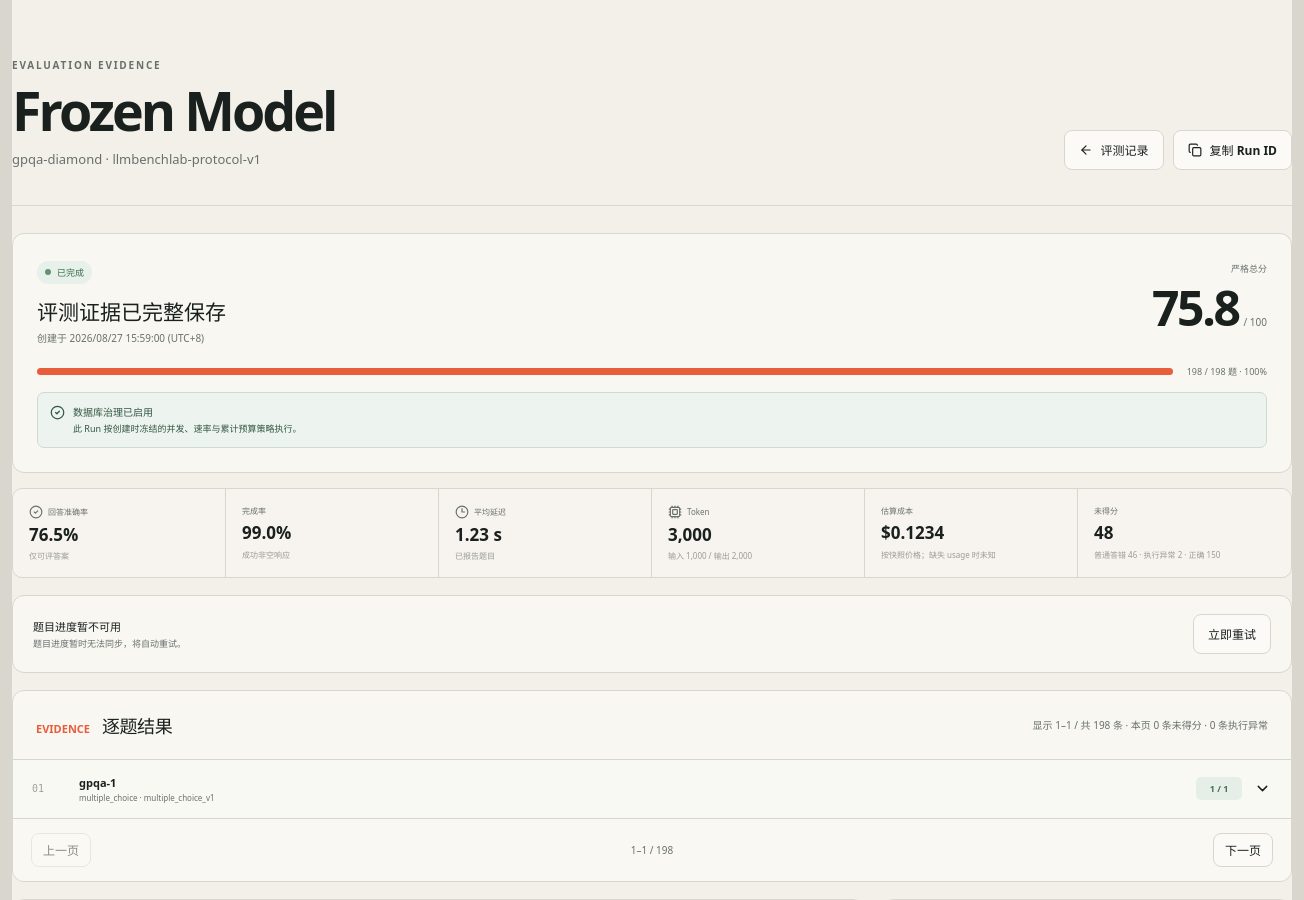
Scenario: RunDetailPage › requests offset 100 and numbers the first item on page two as 101
Expected: the text "gpqa-1" is shown, [79,774,116,790]
Click the button "下一页". click: point(1243, 850)
box: [1213,832,1273,866]
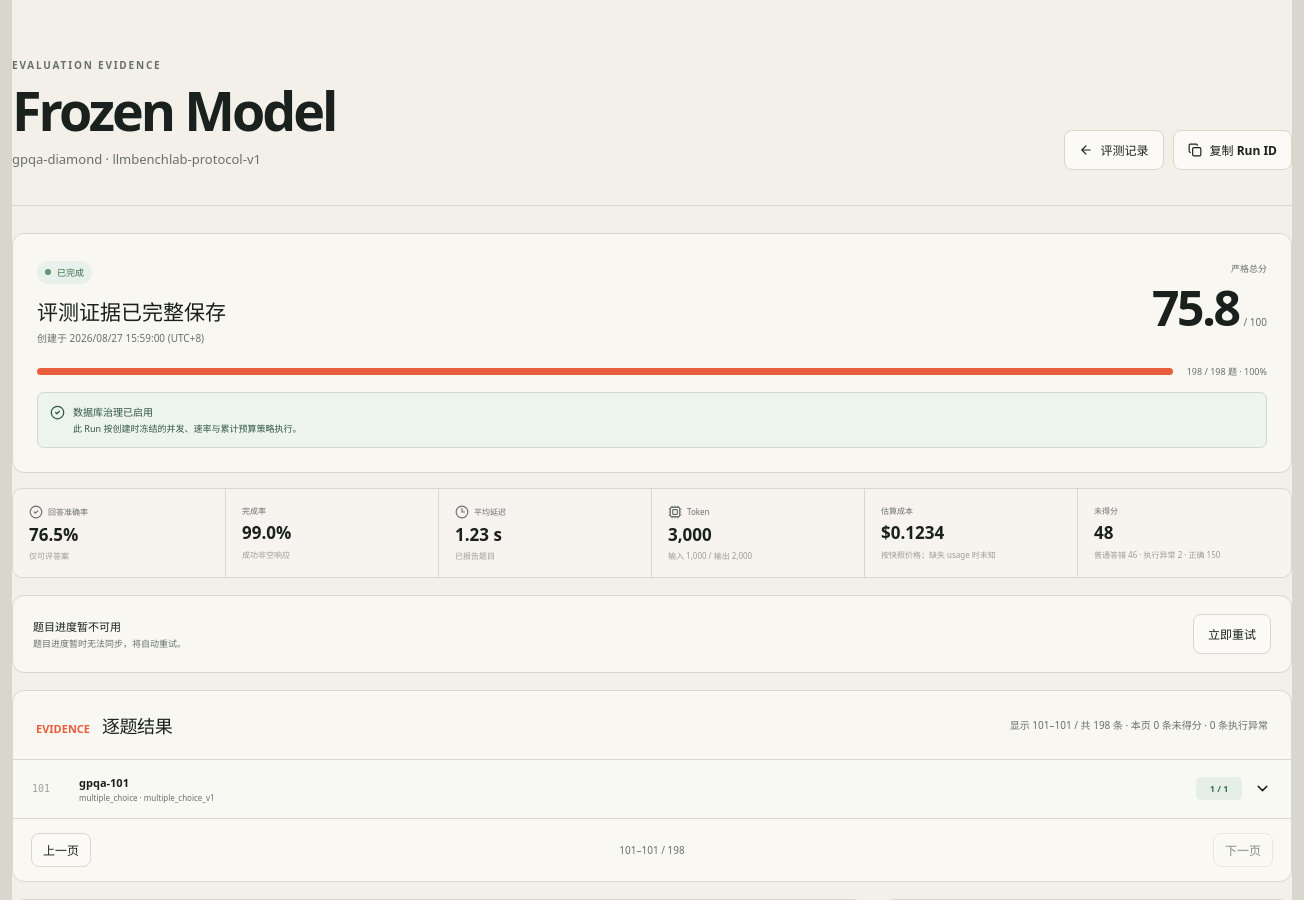
Now the text "gpqa-101" is shown, box [79,774,129,790]
Now the text "101" is shown, box [32,783,50,794]
Now the text "显示 101–101 / 共 198 条 · 本页 0 条未得分 · 0 条执行异常" is shown, box [1010,717,1268,732]
